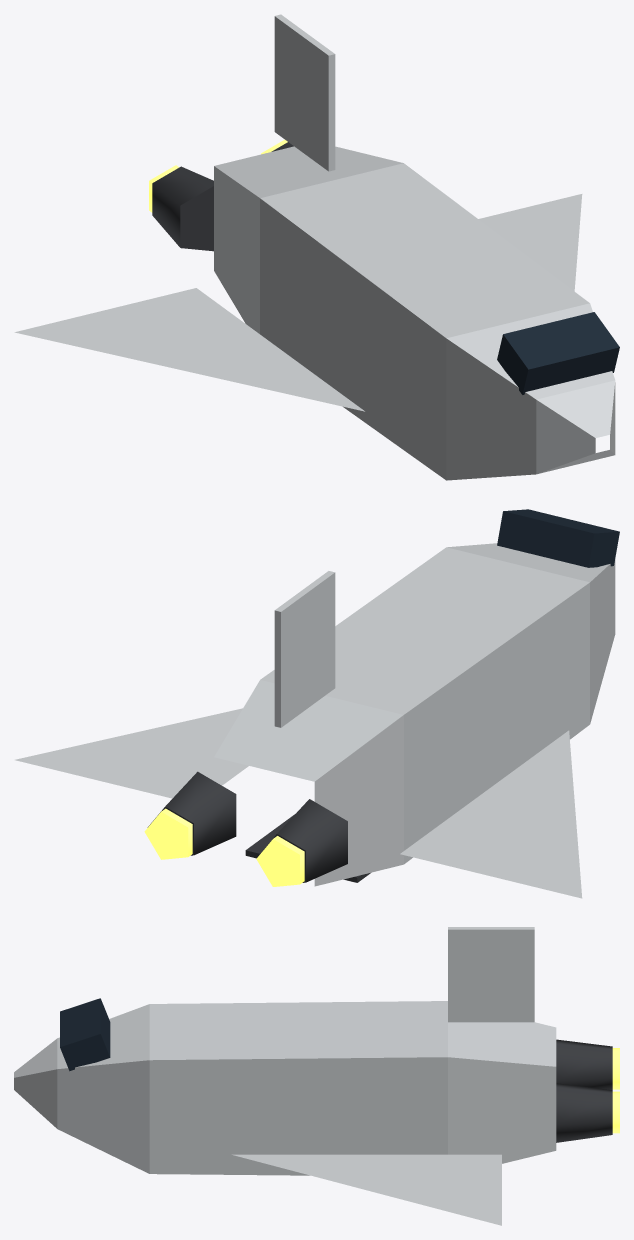
The model's file is space_ship_shuttle_mk1_lod1.glb.
3 views of the same model, one above another, from view 1: azimuth 30°, elevation 25°; view 2: azimuth 150°, elevation 25°; view 3: azimuth 270°, elevation 25° (orthographic). The views are drawn at different scales.
Visible parts, largest first — view 1: body, engine_1; view 2: body, engine_0, engine_1, ramp; view 3: body, engine_0, engine_1.
Part boxes in pixels (box(x1,y1,x2,y2)): body: box(14, 14, 619, 480); engine_1: box(149, 165, 213, 251); body: box(15, 509, 619, 898); engine_0: box(144, 771, 236, 859); engine_1: box(256, 799, 347, 886); ramp: box(245, 814, 370, 882); body: box(14, 927, 556, 1225); engine_0: box(556, 1083, 619, 1142); engine_1: box(556, 1039, 619, 1089).
Bounding box in the file's own units: 8.72 × 4.04 × 10.06.
